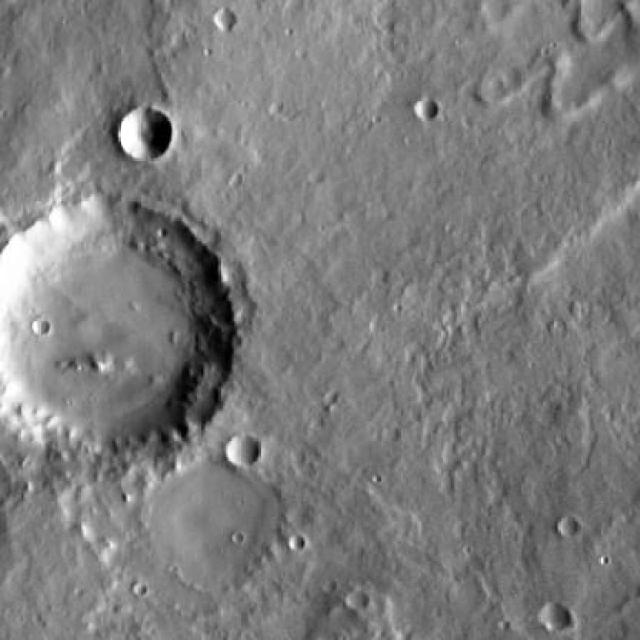crater: (0, 202, 240, 464), (115, 104, 170, 158), (223, 428, 259, 462), (542, 608, 566, 632), (410, 97, 435, 120), (212, 5, 233, 27), (343, 588, 365, 608), (554, 516, 575, 536), (36, 309, 53, 326)
